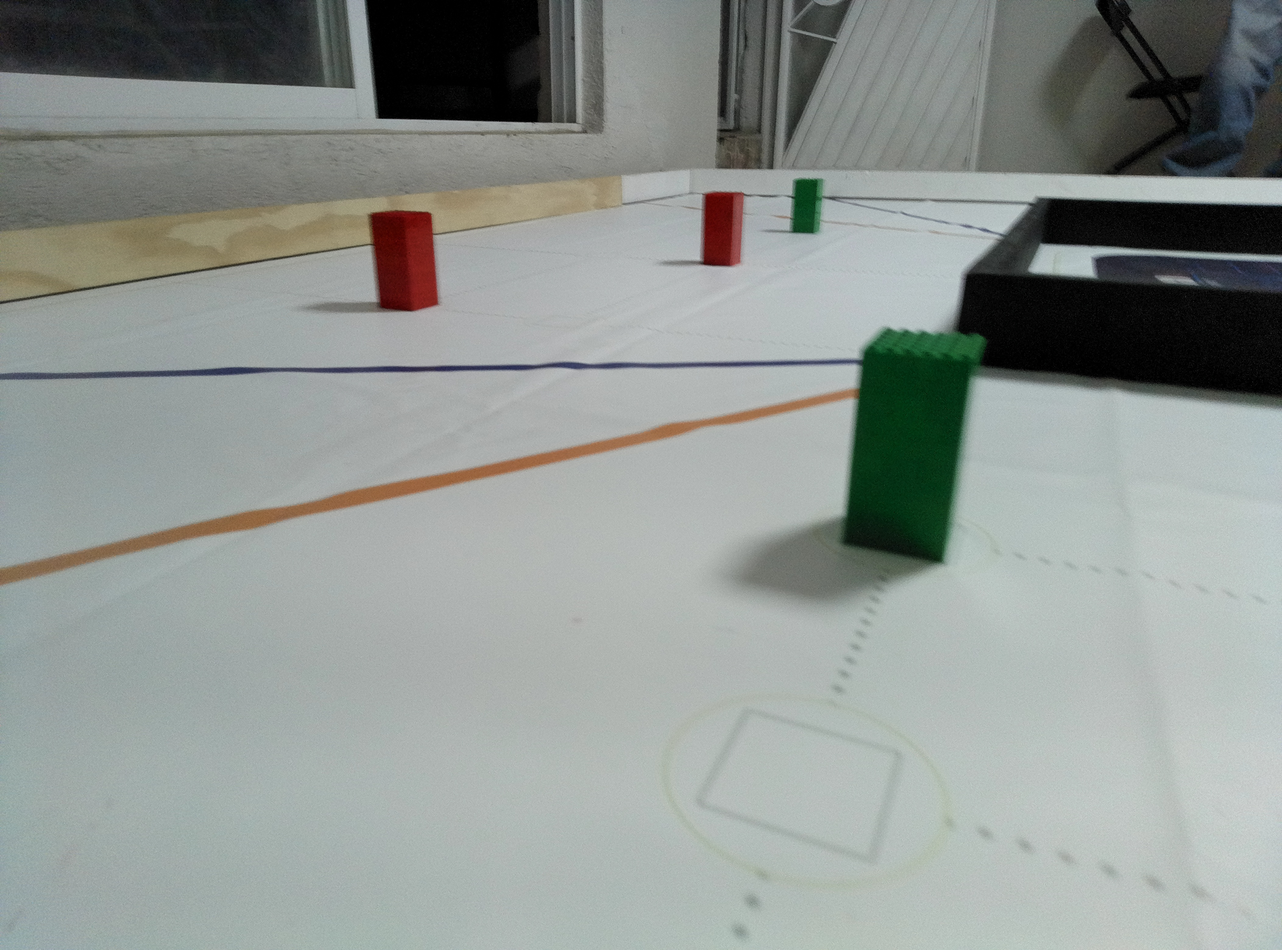greenbox: (838, 323, 984, 566), (790, 177, 823, 233)
redbox: (367, 210, 440, 313), (702, 190, 744, 266)
